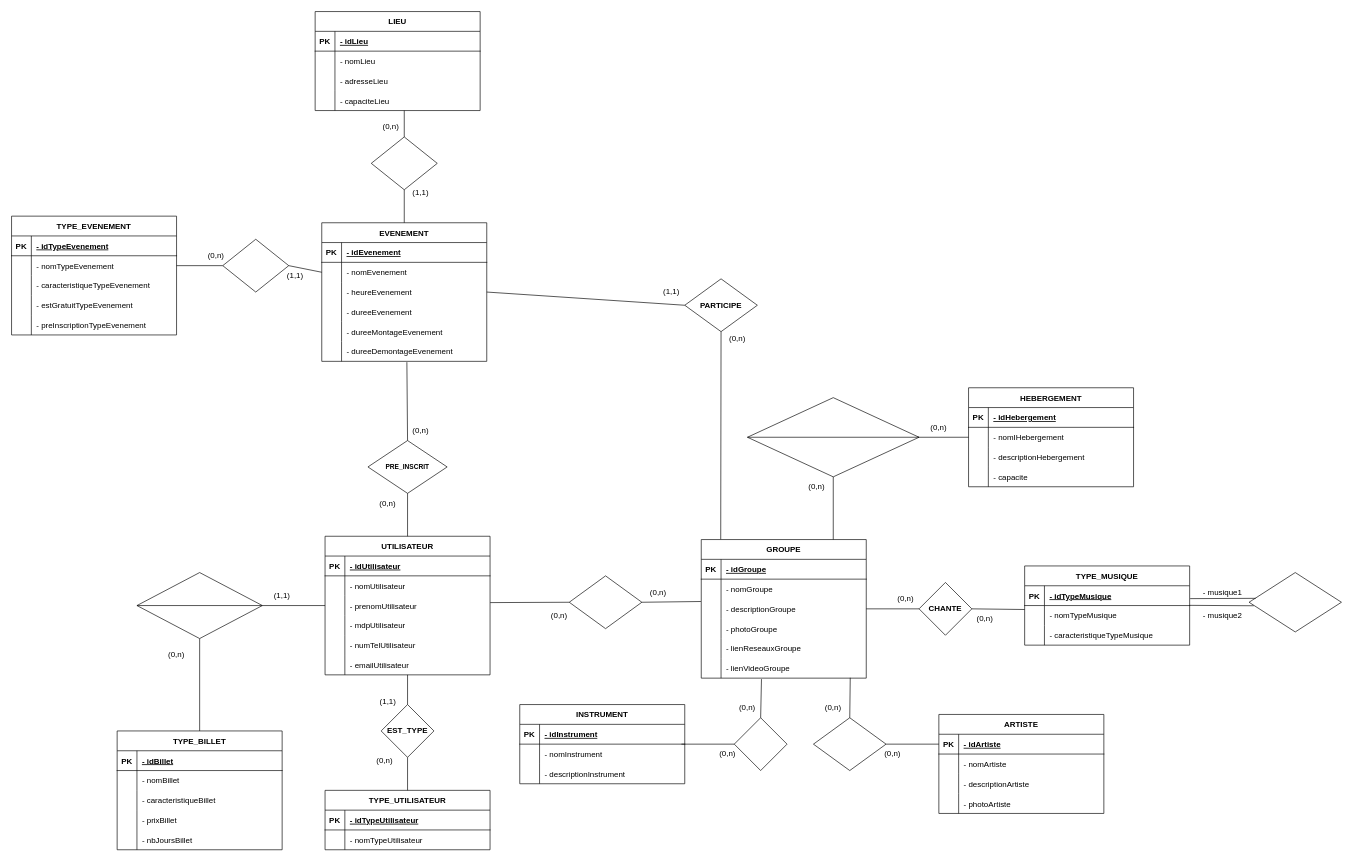
Some shapes in this 1353 by 861 pixel diagram are drawn without their labels. Here are the shapes that lost their labels. From the top down, the centre of each, then its label:
At (x=404, y=163): "SE_SITUE".
At (x=255, y=265): "EST_DE_TYPE".
At (x=833, y=437): "A_RESERVE - dateAReserve - dureeHebergement".
At (x=199, y=605): "EST_INSCRIT - dateInscription".
At (x=605, y=602): "EST_FAVORIE".
At (x=1294, y=602): "PAIRE_MUSIQUE".
At (x=760, y=744): "JOUE".
At (x=849, y=744): "FAIT_PARTIE".
